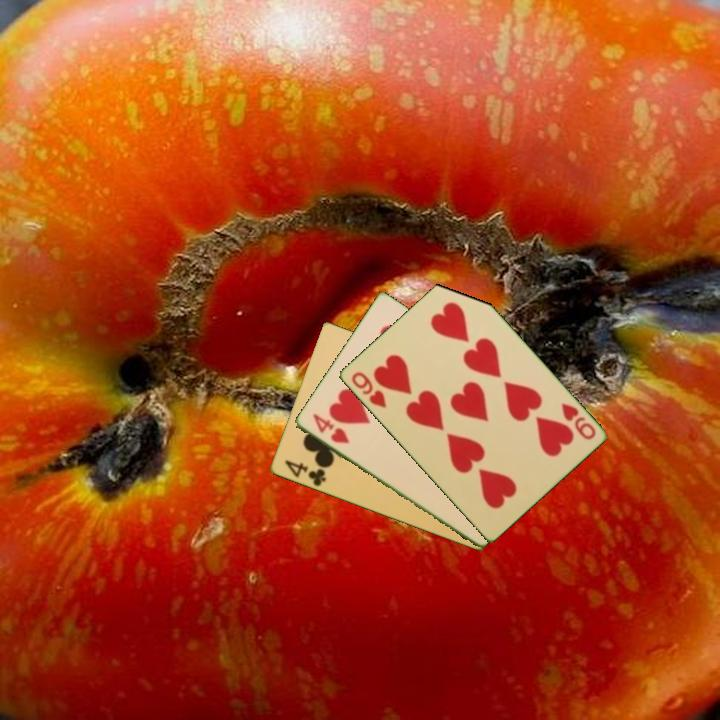4c: (281, 456, 329, 489)
4h: (309, 410, 352, 447)
9h: (557, 399, 599, 443), (348, 368, 389, 411)
